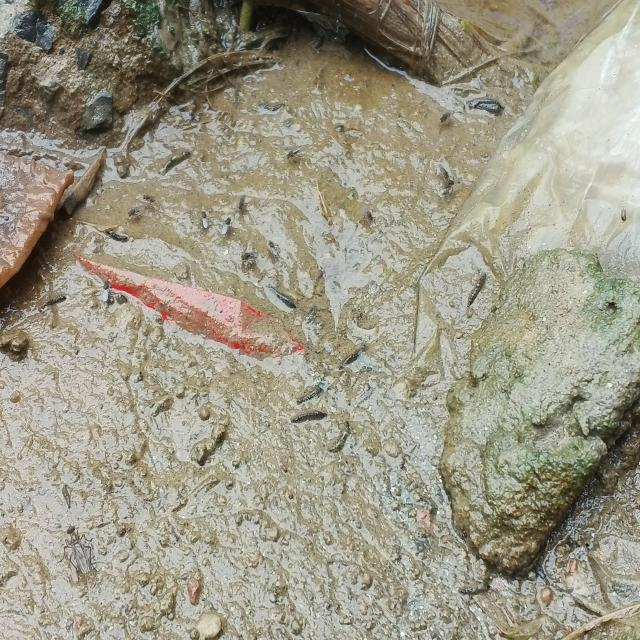Breeding Place: (0, 54, 640, 640)
